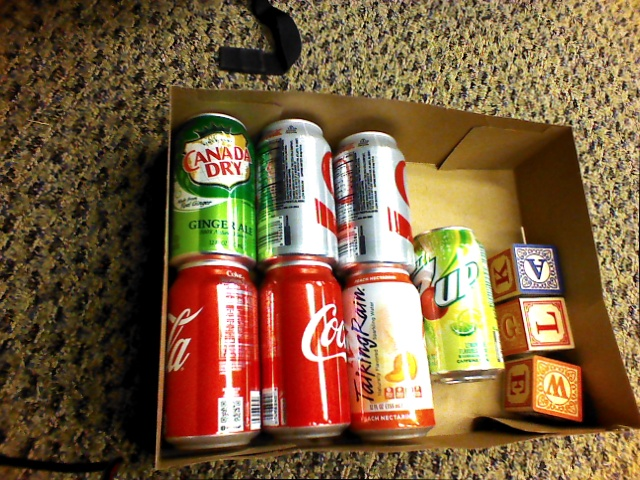can_coke: (166, 261, 261, 446), (262, 262, 348, 436)
can_diet_coke: (256, 118, 337, 266), (337, 131, 414, 273)
can_diet_seven_up: (420, 228, 502, 383)
can_ginger_ale: (167, 112, 257, 261)
can_talking_rain_peach_nectarine: (346, 268, 429, 440)
